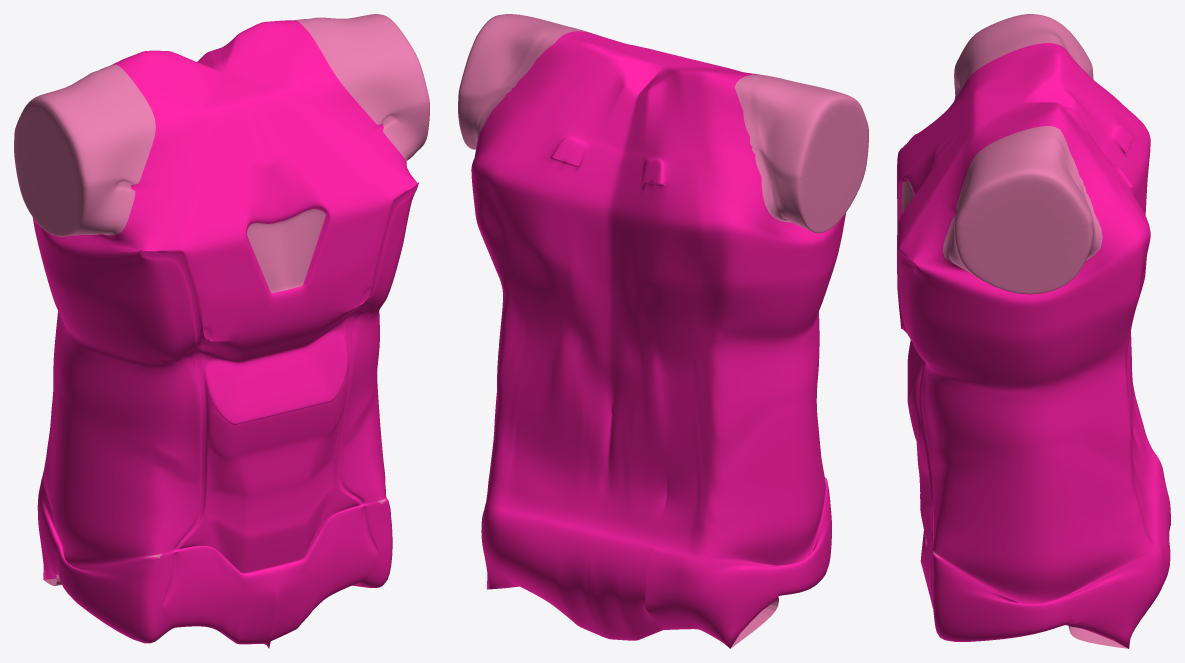
The model's file is body.fbx.
The picture shows the model from 3 angles, left to right: view 1: azimuth 30°, elevation 25°; view 2: azimuth 150°, elevation 25°; view 3: azimuth 270°, elevation 25°; orthographic projection. The views are drawn at different scales.
Parts seen in each view (by area): view 1: body; view 2: body; view 3: body.
Boxes of the visible parts, x1,y1,x2,y2 form: body: [14, 14, 429, 648]; body: [458, 14, 868, 648]; body: [897, 14, 1170, 648].
Bounding box in the file's own units: 0.4267 × 0.6624 × 0.3082.
